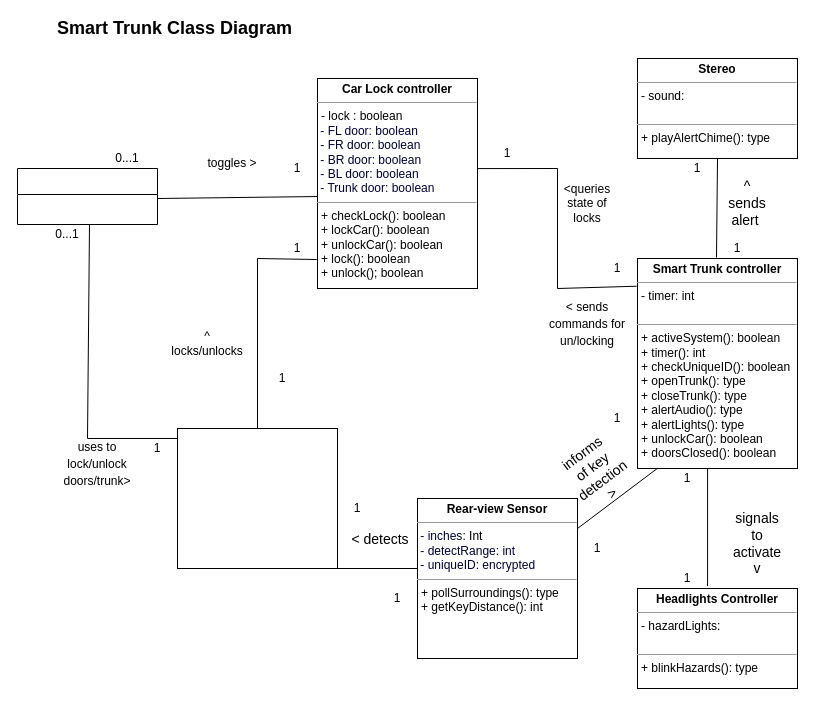
Some shapes in this 815 by 706 pixel diagram are drawn without their labels. Each missing label, with the centre of its shape:
Smart key - rangefreq : int - uniqueID: encrypted + sendfreq(); encrypted: the point at 257,498
User: the point at 87,196
